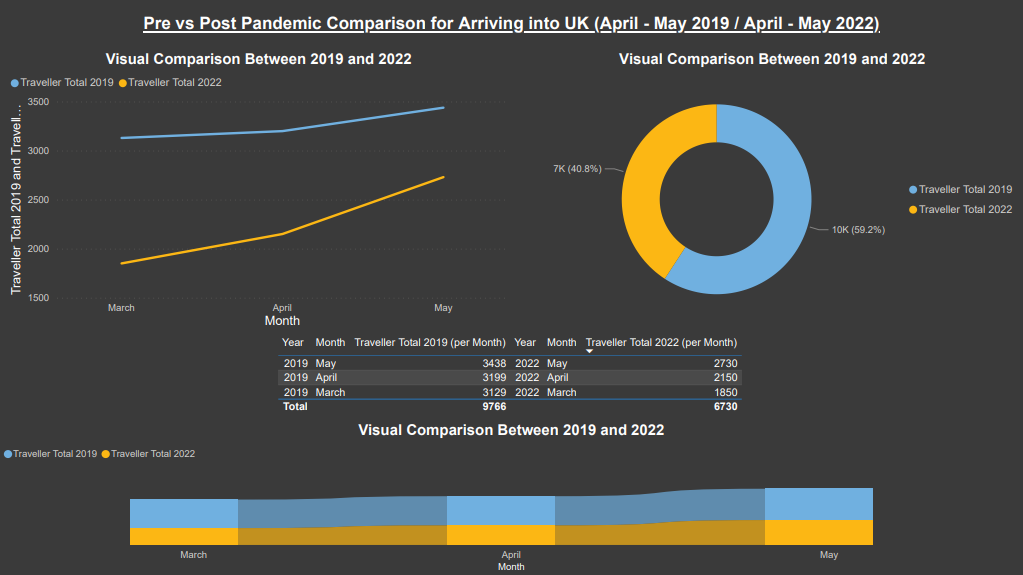

The page's visual inventory and layout, read from the dashboard file:
{"tool":"powerbi","page":{"name":"Pre vs Post Pandemic Comparison","canvas":[1280,720],"ordinal":2},"visuals":[{"type":"lineChart","title":"Visual Comparison Between 2019 and 2022","fields":{"Category":["Pre vs Post Pandemic.Dates 2019.Variation.Date Hierarchy.Year","Pre vs Post Pandemic.Dates 2019.Variation.Date Hierarchy.Month","Pre vs Post Pandemic.Dates 2022.Variation.Date Hierarchy.Year","Pre vs Post Pandemic.Dates 2022.Variation.Date Hierarchy.Month"],"Y":["Sum(Pre vs Post Pandemic.Total Traveller Recorded 2019)","Sum(Pre vs Post Pandemic.Total Traveller Recorded 2022)"]},"box":[8.4,63.8,631.6,351.1],"z":0},{"type":"ribbonChart","title":"Visual Comparison Between 2019 and 2022","fields":{"Y":["Sum(Pre vs Post Pandemic.Total Traveller Recorded 2019)","Sum(Pre vs Post Pandemic.Total Traveller Recorded 2022)"],"Category":["Pre vs Post Pandemic.Dates 2019.Variation.Date Hierarchy.Year","Pre vs Post Pandemic.Dates 2019.Variation.Date Hierarchy.Month"]},"box":[0,527.5,1280,193.2],"z":1000},{"type":"donutChart","title":"Visual Comparison Between 2019 and 2022","fields":{"Y":["Sum(Pre vs Post Pandemic.Total Traveller Recorded 2019)","Sum(Pre vs Post Pandemic.Total Traveller Recorded 2022)"]},"box":[651.8,63.8,628.2,351.1],"z":2000},{"type":"tableEx","fields":{"Values":["Pre vs Post Pandemic.Dates 2019.Variation.Date Hierarchy.Year","Pre vs Post Pandemic.Dates 2019.Variation.Date Hierarchy.Month","Sum(Pre vs Post Pandemic.Total Traveller Recorded 2019)","Pre vs Post Pandemic.Dates 2022.Variation.Date Hierarchy.Year","Pre vs Post Pandemic.Dates 2022.Variation.Date Hierarchy.Month","Sum(Pre vs Post Pandemic.Total Traveller Recorded 2022)"]},"box":[342.7,414.9,594.6,112.5],"z":3000},{"type":"textbox","box":[0,13.4,1280,37],"z":3002}]}

Visuals, with their boxes in screenshot pixels (x1, y1, x2, y2), scaled from the page's 1280x720 canvas onto the 1023x575 screenshot:
"Visual Comparison Between 2019 and 2022" lineChart: l=7, t=51, r=512, b=331
"Visual Comparison Between 2019 and 2022" ribbonChart: l=0, t=421, r=1022, b=574
"Visual Comparison Between 2019 and 2022" donutChart: l=521, t=51, r=1022, b=331
tableEx - Pre vs Post Pandemic.Dates 2019.Variation.Date Hierarchy.Year x Pre vs Post Pandemic.Dates 2019.Variation.Date Hierarchy.Month: l=274, t=331, r=749, b=421
textbox: l=0, t=11, r=1022, b=40
